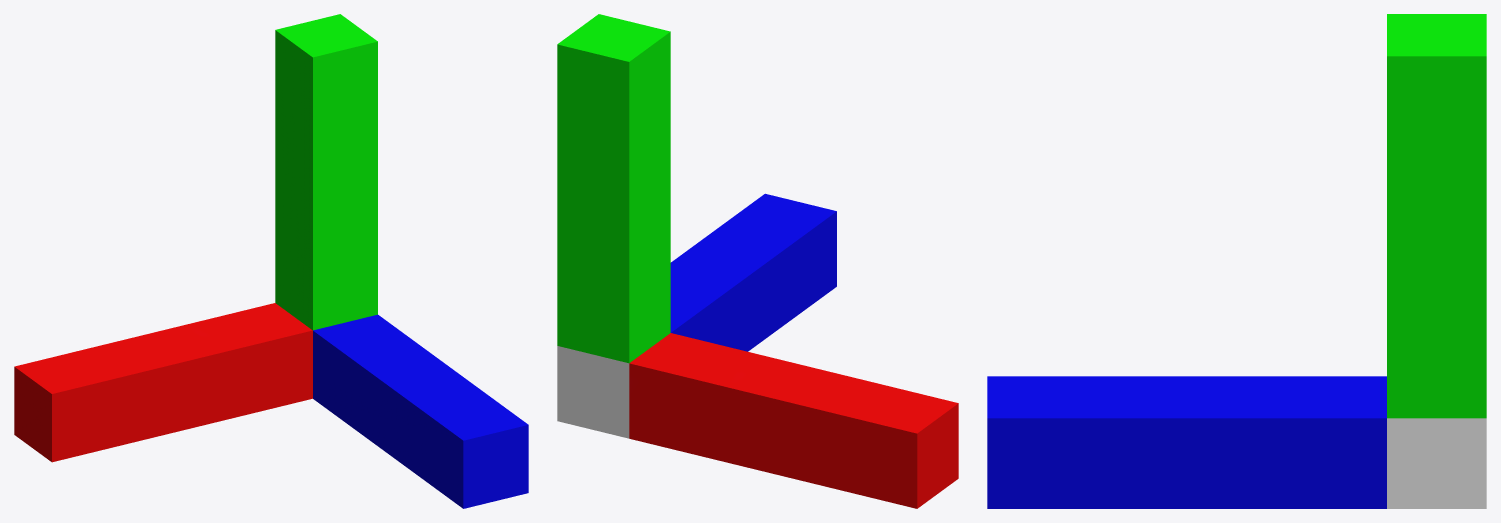
The model's file is CameraAxis.obj.
The picture shows the model from 3 angles, left to right: view 1: azimuth 30°, elevation 25°; view 2: azimuth 150°, elevation 25°; view 3: azimuth 270°, elevation 25°; orthographic projection. The views are drawn at different scales.
Parts seen in each view (by area): view 1: Axis; view 2: Axis; view 3: Axis.
Boxes of the visible parts, x1,y1,x2,y2 form: Axis: (14,14,528,508); Axis: (557,14,958,508); Axis: (987,14,1486,508).
Bounding box in the file's own units: 0.5 × 0.5 × 0.5.
Materials: 1 (1 with a texture image).
